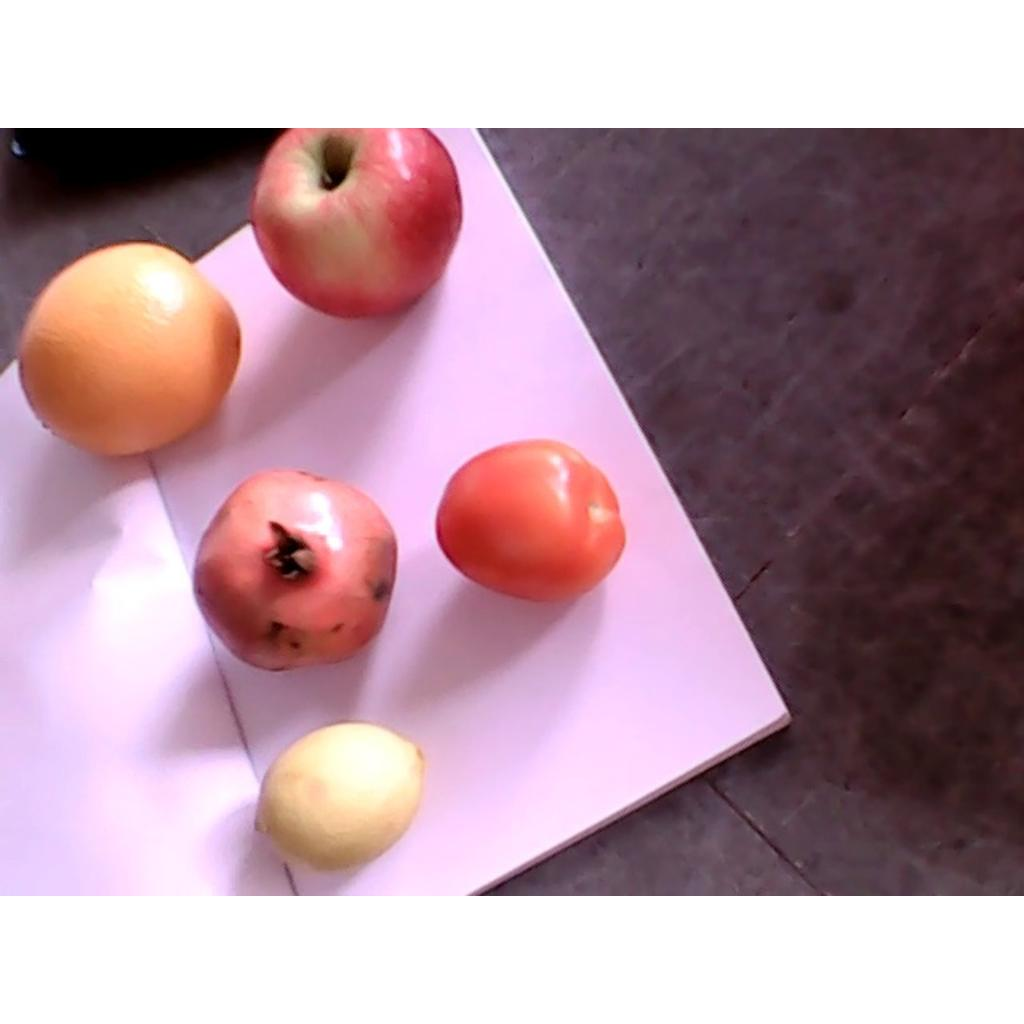apple: (249, 128, 464, 318)
lemon: (252, 721, 426, 867)
orange: (19, 241, 240, 459)
pomegranate: (193, 471, 397, 671)
tomato: (437, 438, 626, 601)
